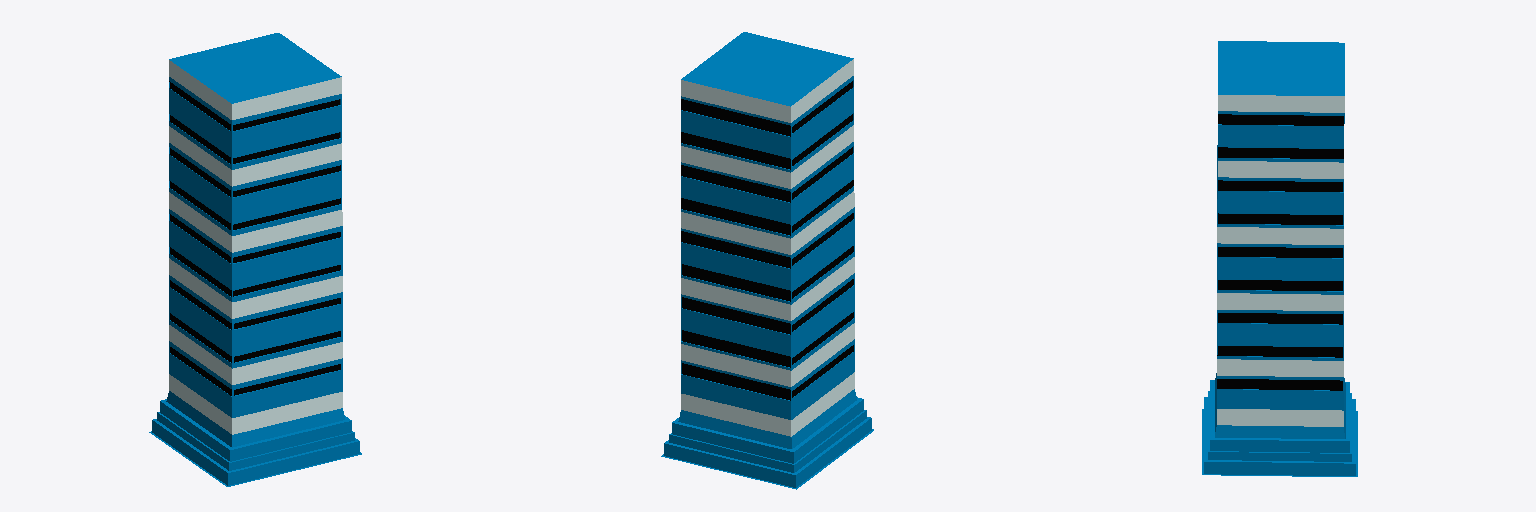
Rendered from skyscraper6.obj.
3 views of the same model, side by side, from view 1: azimuth 30°, elevation 25°; view 2: azimuth 150°, elevation 25°; view 3: azimuth 270°, elevation 25° (orthographic).
Visible parts, largest first — view 1: Hochhaus_Fläche.002; view 2: Hochhaus_Fläche.002; view 3: Hochhaus_Fläche.002.
Part boxes in pixels (x1,y1,x2,y2): Hochhaus_Fläche.002: (149,33,361,486); Hochhaus_Fläche.002: (661,32,873,489); Hochhaus_Fläche.002: (1202,41,1357,476).
Size of the model in its own units: 14.67 by 38.8 by 14.67.